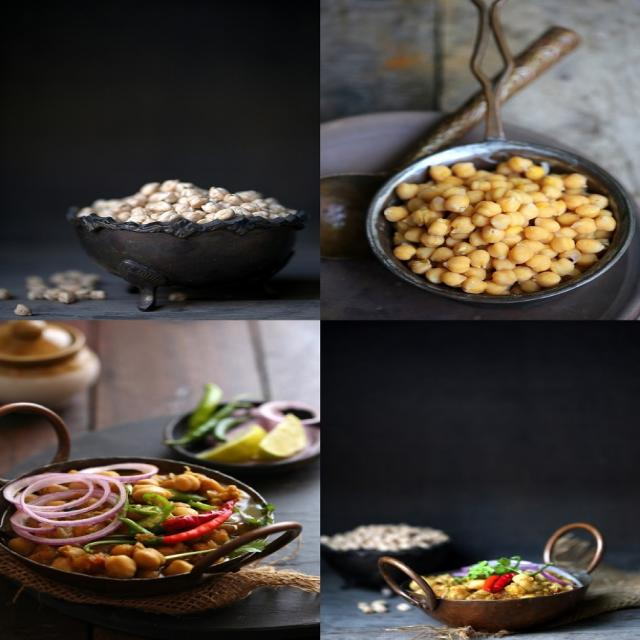Chole: (385, 157, 615, 294), (10, 466, 265, 578), (410, 559, 575, 601)
